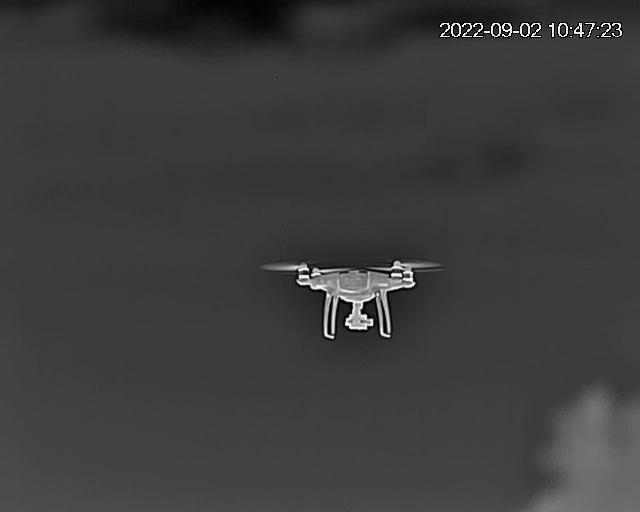DJI-Phantom: (260, 257, 452, 340)
